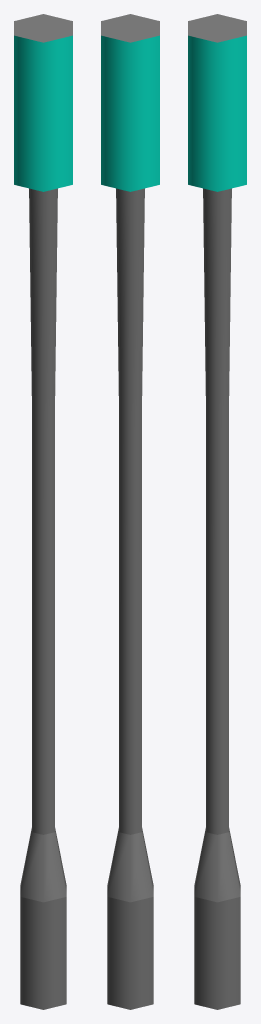
File: Spline Lams.fbx
3 views of the same model, side by side, from view 1: azimuth 90°, elevation 25°; view 2: azimuth 210°, elevation 25°; view 3: azimuth 270°, elevation 25° (orthographic).
Visible parts, largest first — view 1: Cylinder001; view 2: Cylinder001; view 3: Cylinder001.
Boxes of the visible parts, box(x1,y1,x2,y2) form: Cylinder001: box(14, 14, 72, 1009); Cylinder001: box(101, 14, 159, 1009); Cylinder001: box(188, 14, 246, 1009).
Bounding box in the file's own units: 4.47 × 70.37 × 3.87.
